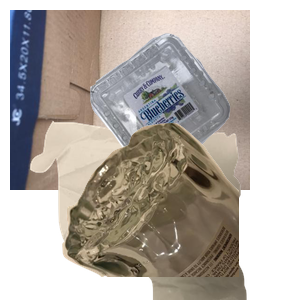cardboard: (10, 10, 250, 190)
glass: (60, 120, 300, 300)
plastic: (88, 31, 300, 198)
trash: (28, 120, 267, 300)
